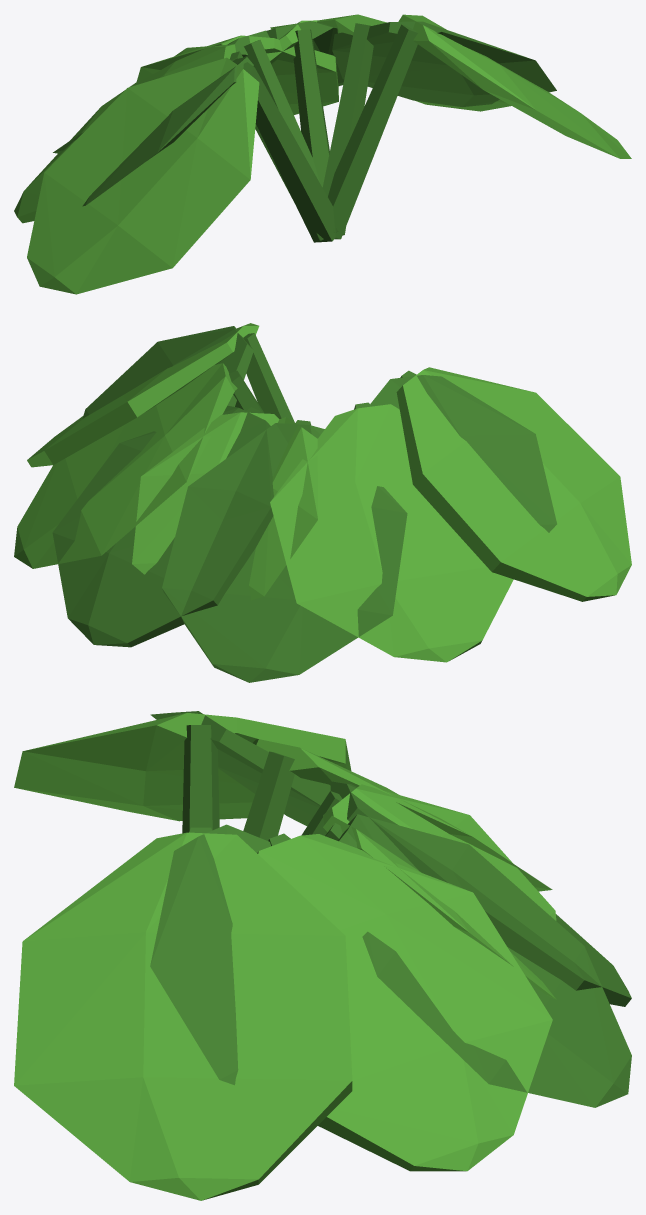
The model's file is strawberry_1.gltf.
3 views of the same model, one above another, from view 1: azimuth 30°, elevation 25°; view 2: azimuth 150°, elevation 25°; view 3: azimuth 270°, elevation 25° (orthographic). The views are drawn at different scales.
Visible parts, largest first — view 1: strawberry_1; view 2: strawberry_1; view 3: strawberry_1.
Part boxes in pixels (<box>): strawberry_1: <box>14,14,631,294</box>; strawberry_1: <box>14,323,631,682</box>; strawberry_1: <box>14,711,631,1200</box>.
Bounding box in the file's own units: 0.3039 × 0.0995 × 0.2066.
